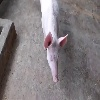heo: (39, 29, 71, 84)
